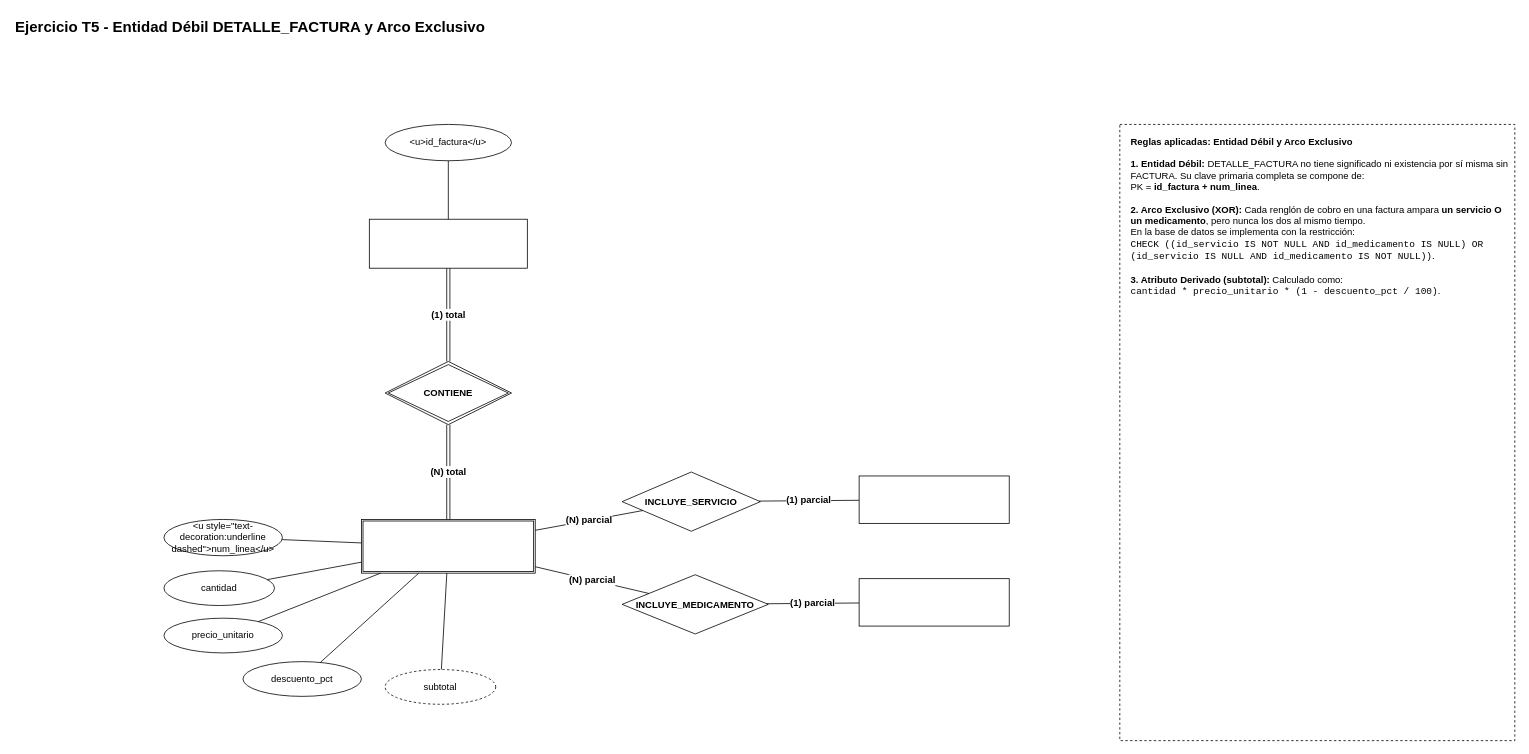
Image size: 1529x754. Some labels were removed from this diagram. The shapes that lost their labels are listed below. From the top down, each one's centre as x and y in pixels, then its label:
pixel 448 243: FACTURA
pixel 933 499: SERVICIO
pixel 448 546: DETALLE_FACTURA
pixel 933 602: MEDICAMENTO
